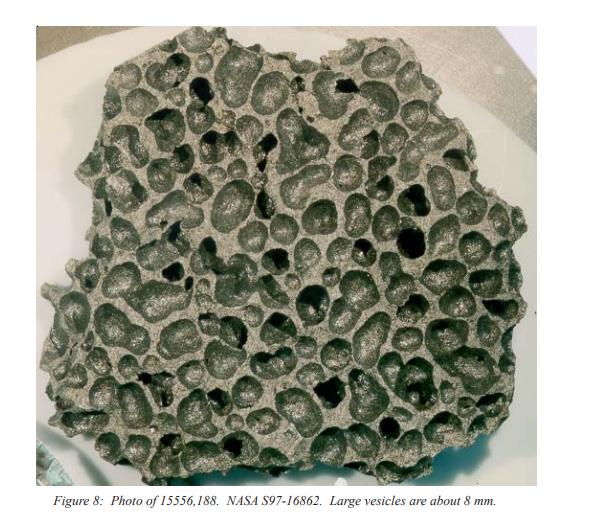Basalt: (80, 56, 510, 473), (149, 126, 433, 411)
